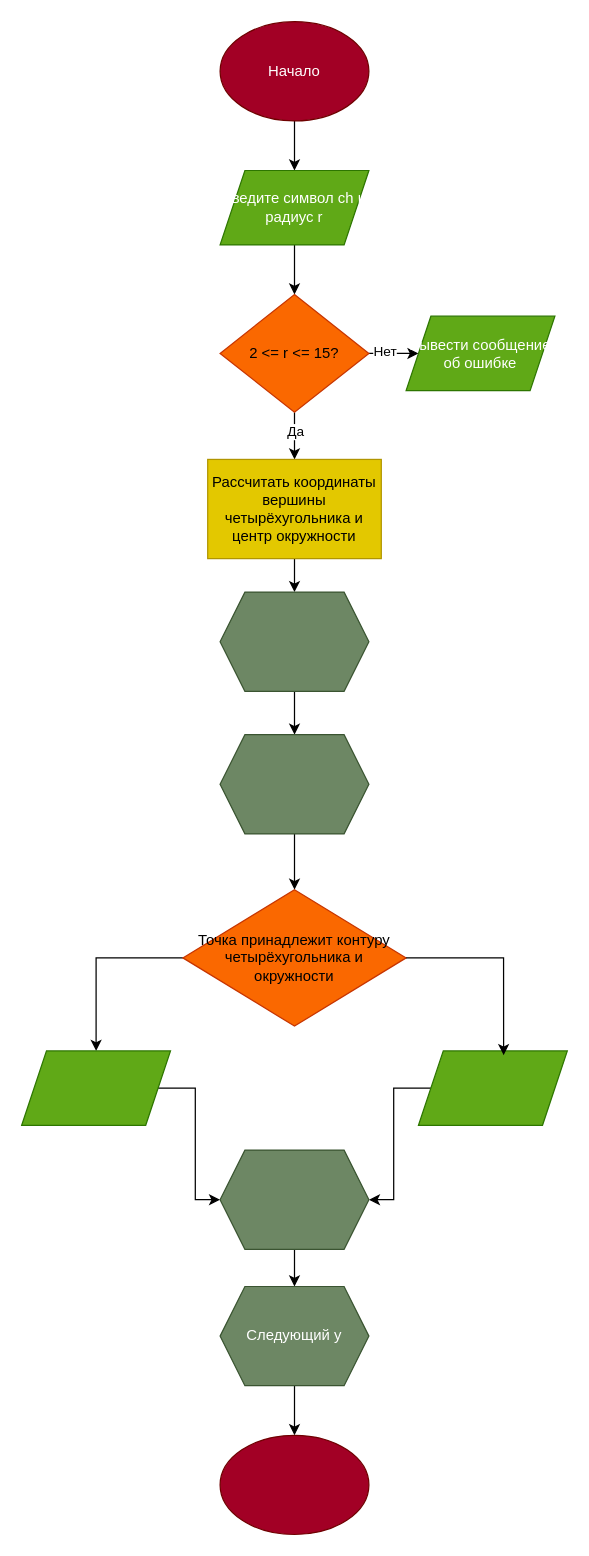
This 589x1556 diagram has some shape labels left out. Here are the shapes that lost their labels. From the top down, the centre of each, then its label:
At pixel 294 641: "y=0, ..., высота".
At pixel 294 783: "y=0, ..., ширина".
At pixel 294 1199: "Следующий x".
At pixel 294 1484: "Конец".
